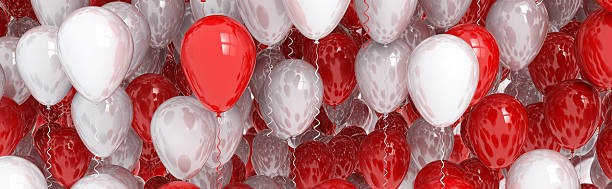Balloon: (181, 16, 255, 113), (59, 6, 133, 101), (407, 34, 478, 126), (150, 95, 217, 180), (258, 60, 324, 136), (70, 88, 135, 156), (466, 94, 528, 165), (487, 1, 549, 72), (15, 25, 70, 105), (354, 37, 410, 113), (543, 80, 597, 147), (575, 8, 612, 88), (360, 131, 409, 189), (507, 150, 578, 189), (41, 130, 85, 183)
